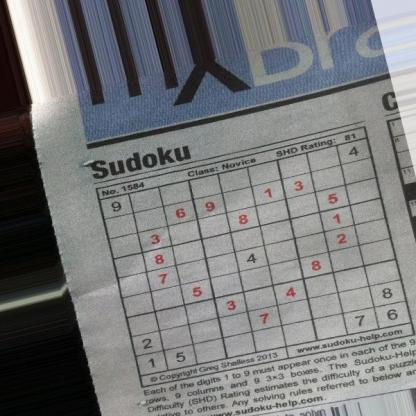sudoku: (90, 125, 416, 382)
